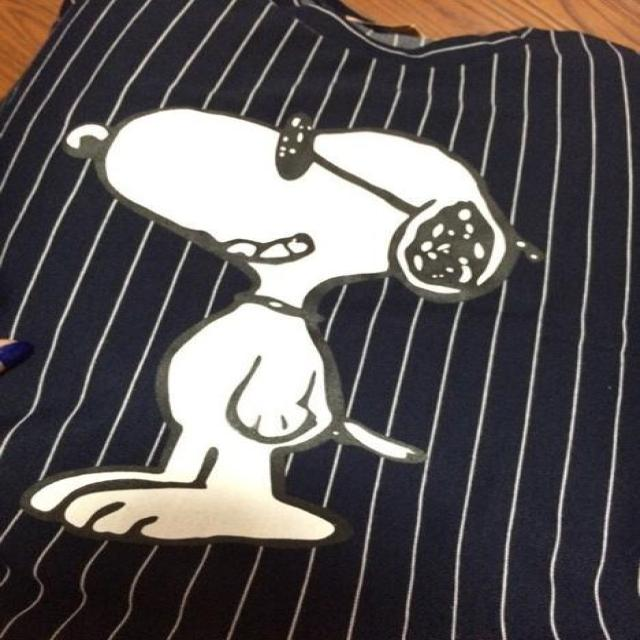short-sleeve-top: (41, 9, 640, 580)
